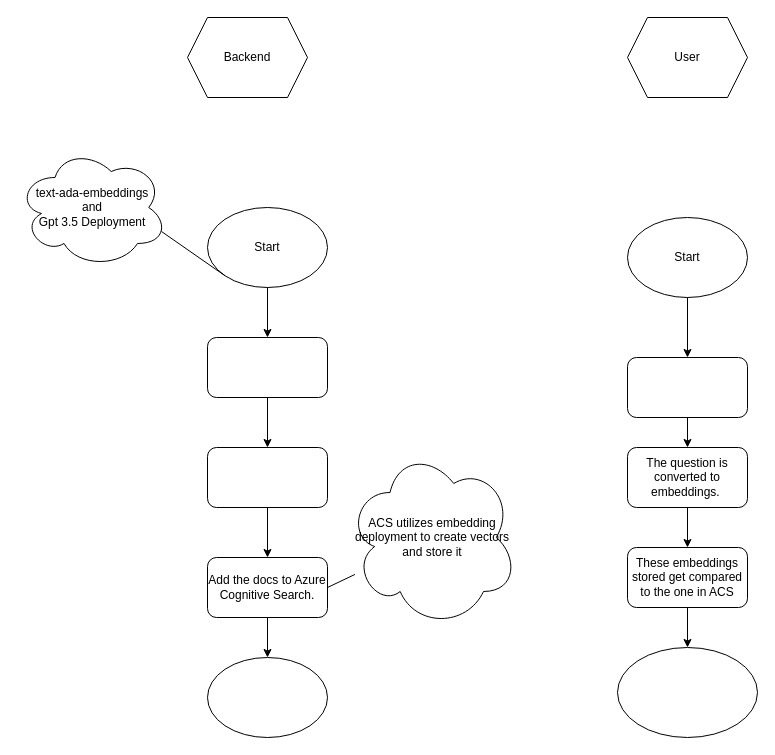
Some shapes in this 775 by 755 pixel diagram are drawn without their labels. Here are the shapes that lost their labels. From the top down, the centre of each, then its label:
At point 267,367: "Data fed from local directory".
At point 687,387: "User asks question to the bot".
At point 267,477: "Data split on basis of no. of characters".
At point 267,697: "Embeddings stored in ACS index".
At point 687,692: "Closest embeddings get fetched and llm displays it in structured manner".
